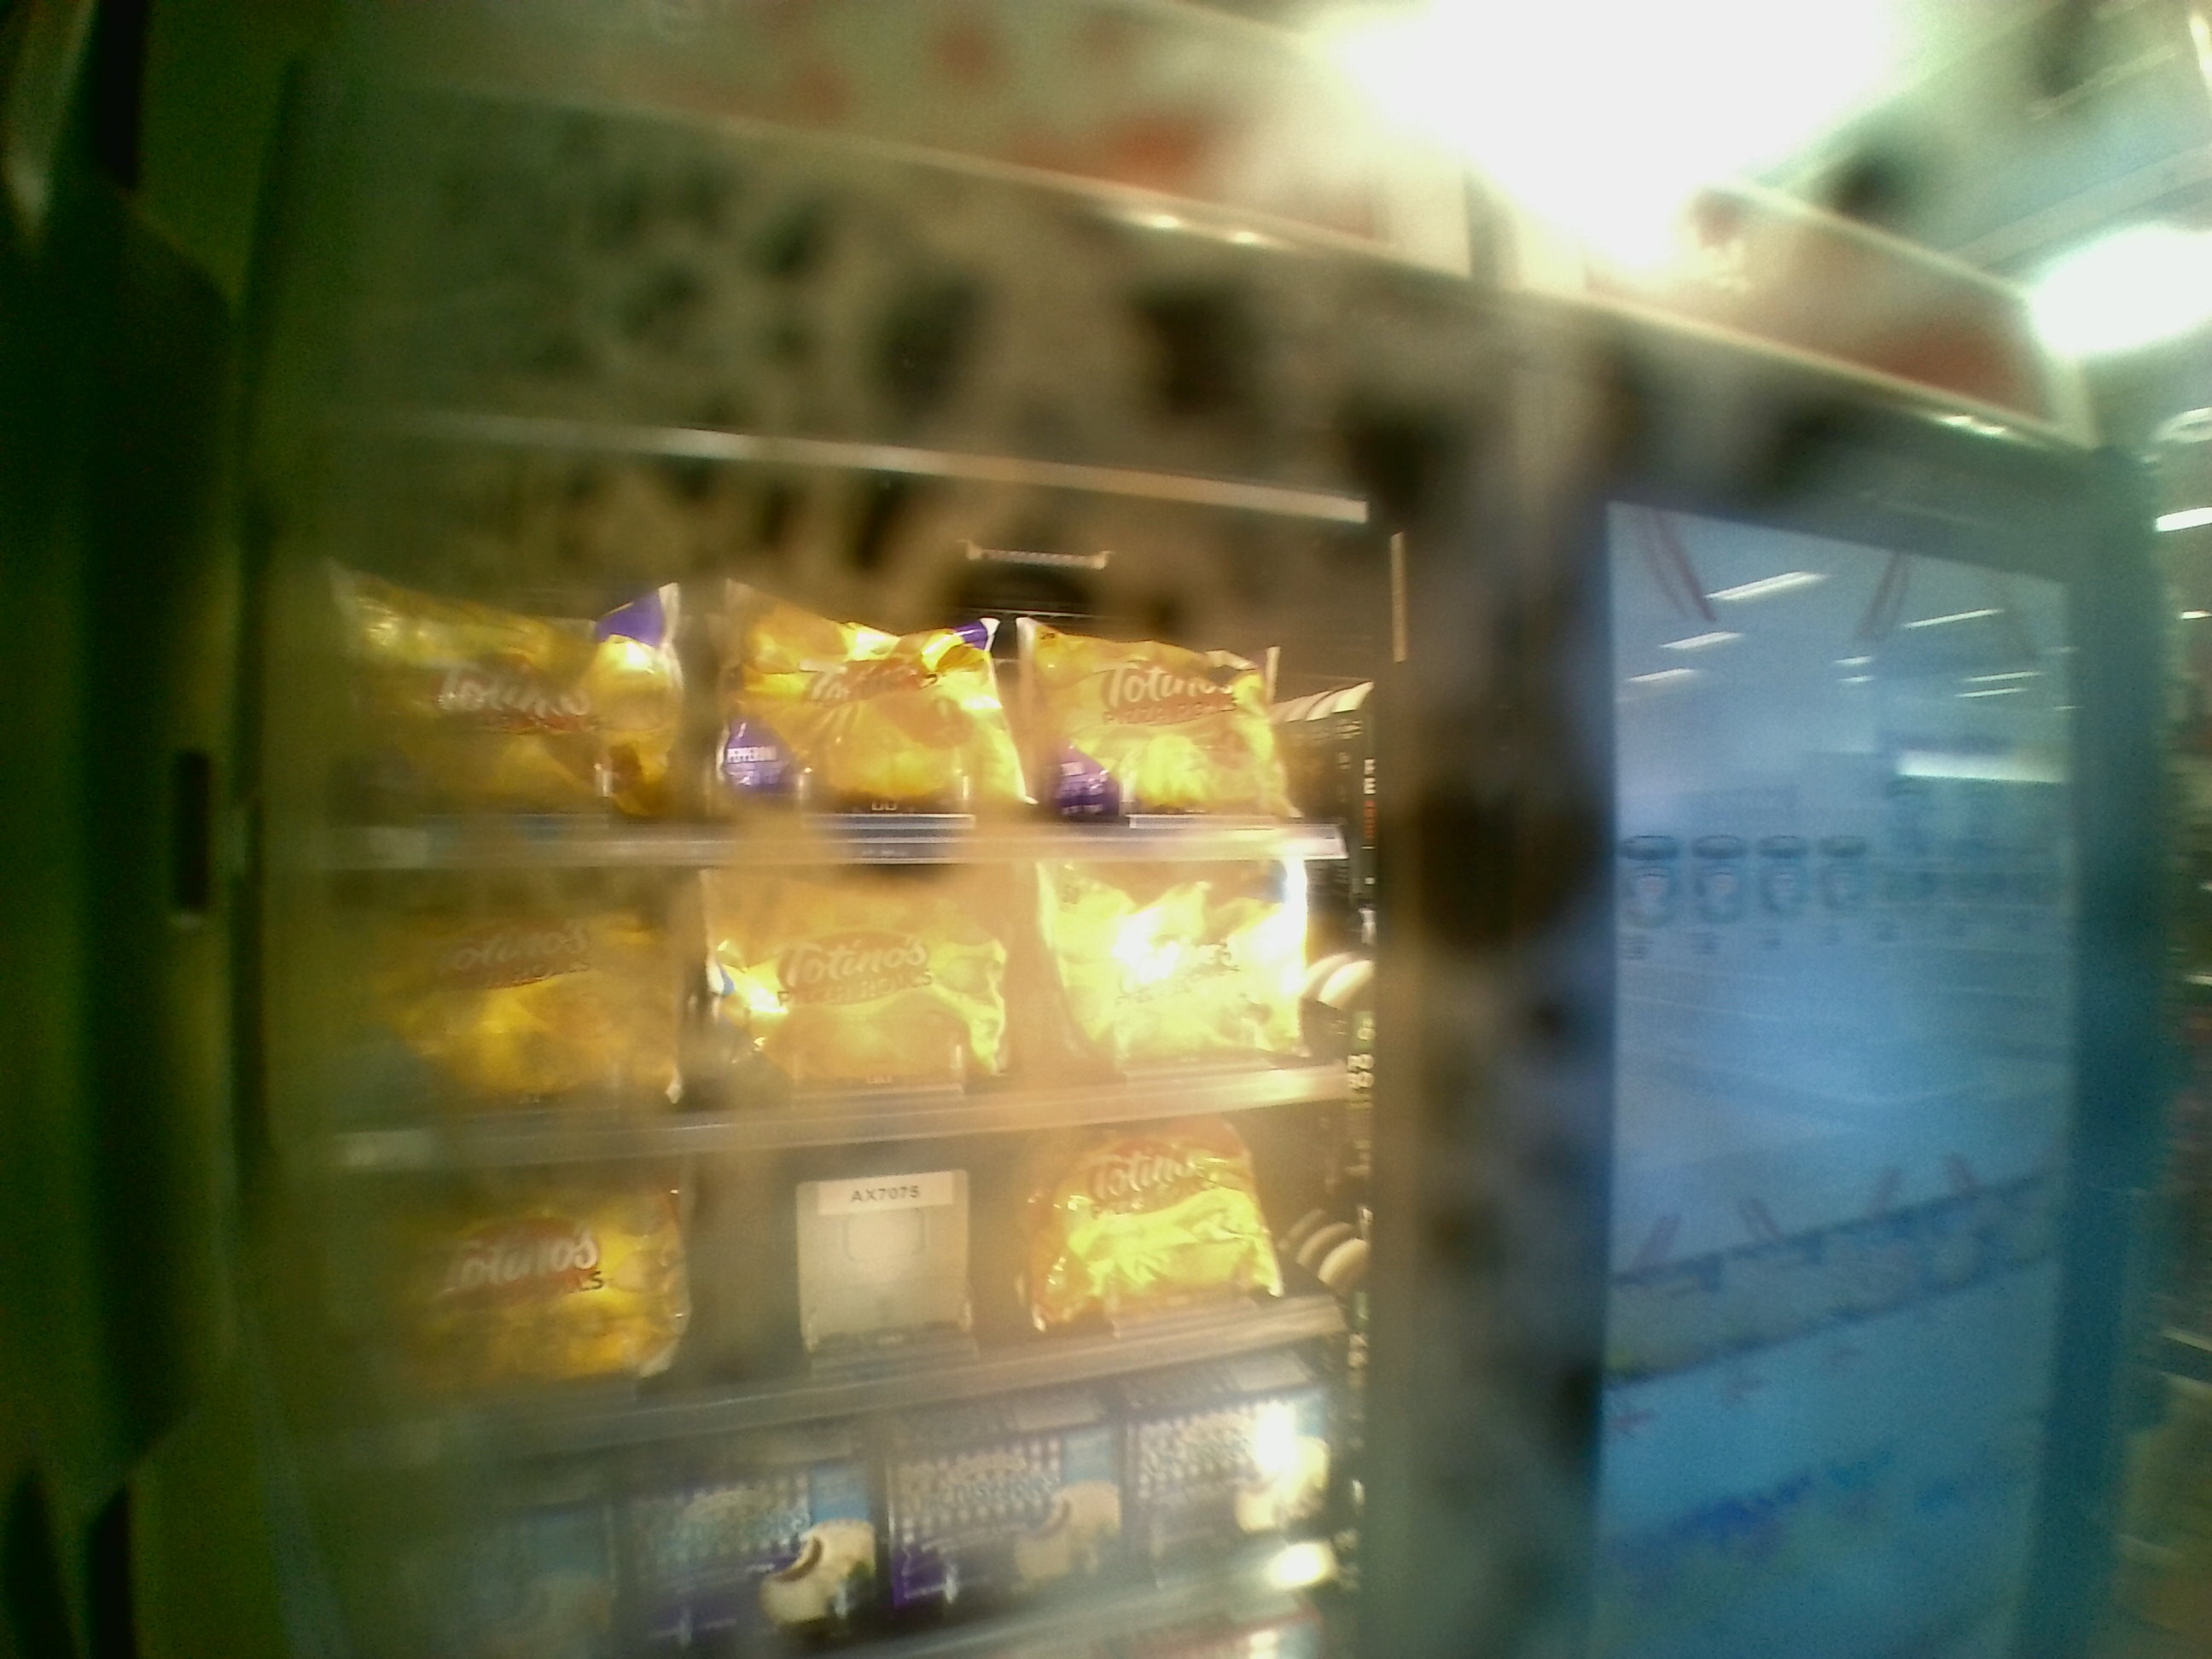shelf: (301, 495, 1353, 850), (275, 859, 1353, 1122), (275, 1140, 1341, 1375)
